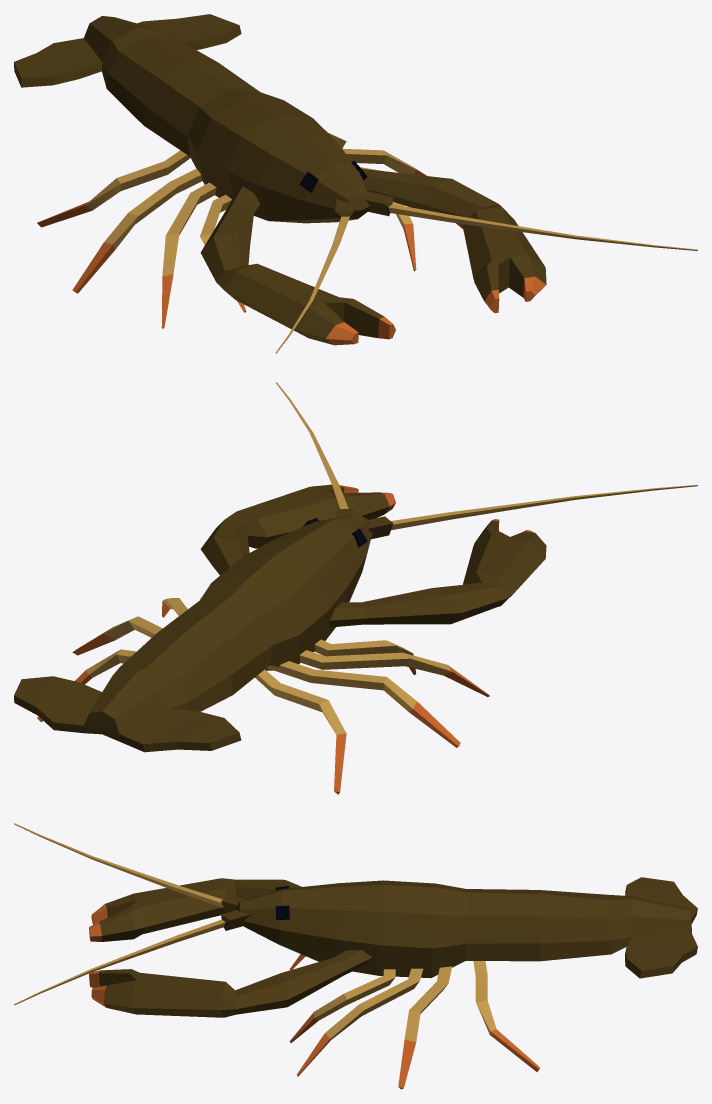
File: Mesh_Crayfish.obj
3 renders of one model, top to bottom at view 1: azimuth 30°, elevation 25°; view 2: azimuth 150°, elevation 25°; view 3: azimuth 270°, elevation 25°, orthographic. The views are drawn at different scales.
Parts seen in each view (by area): view 1: Geo_Crayfish; view 2: Geo_Crayfish; view 3: Geo_Crayfish.
Part boxes in pixels (bbox=[...]): Geo_Crayfish: bbox=[14, 14, 697, 353]; Geo_Crayfish: bbox=[14, 382, 697, 794]; Geo_Crayfish: bbox=[14, 823, 697, 1089].
Size of the model in its own units: 62.14 by 19.79 by 99.03.
1 material, 1 textured.
